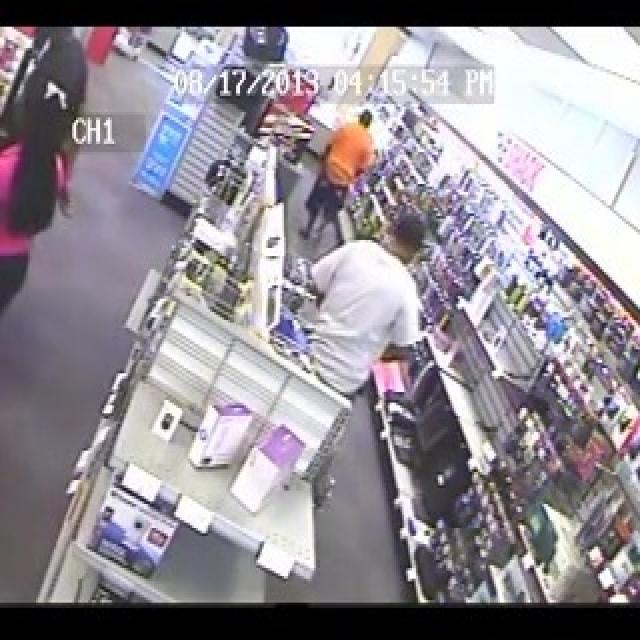normal: (303, 191, 429, 410), (291, 107, 378, 250)
